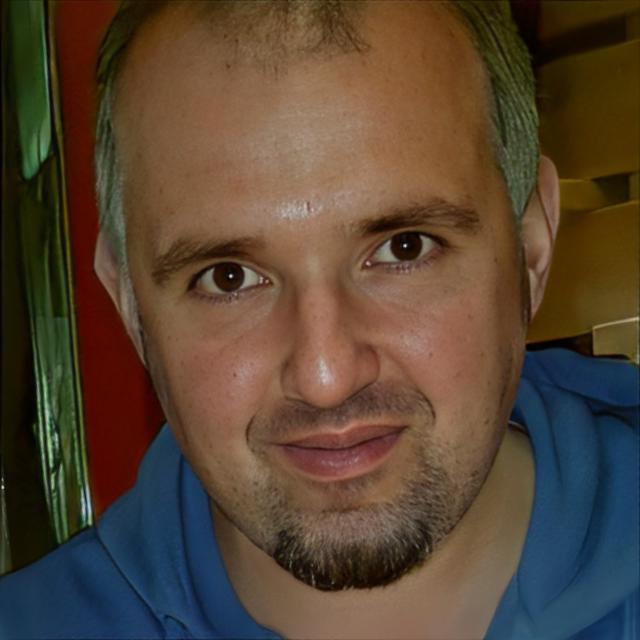disgust: (111, 0, 523, 593)
